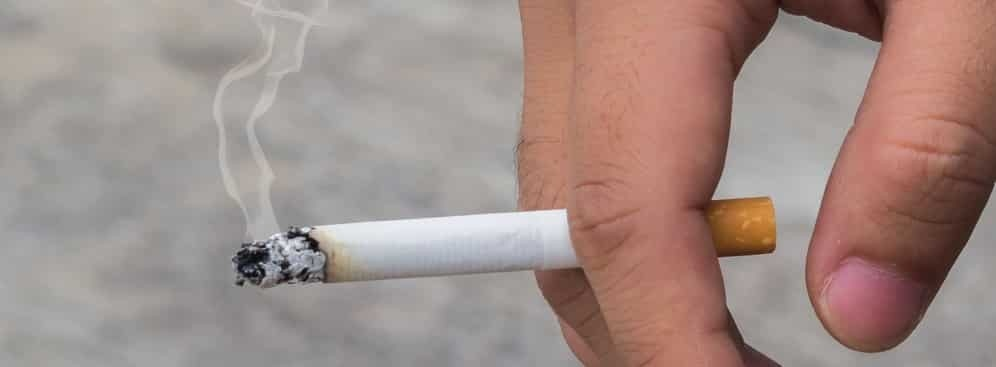sigaretta: (210, 200, 820, 292)
